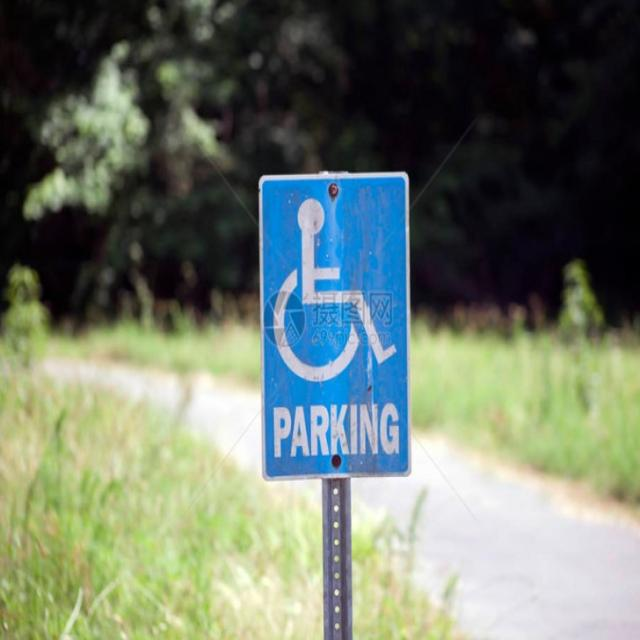symbol_of_access: (258, 170, 412, 480)
